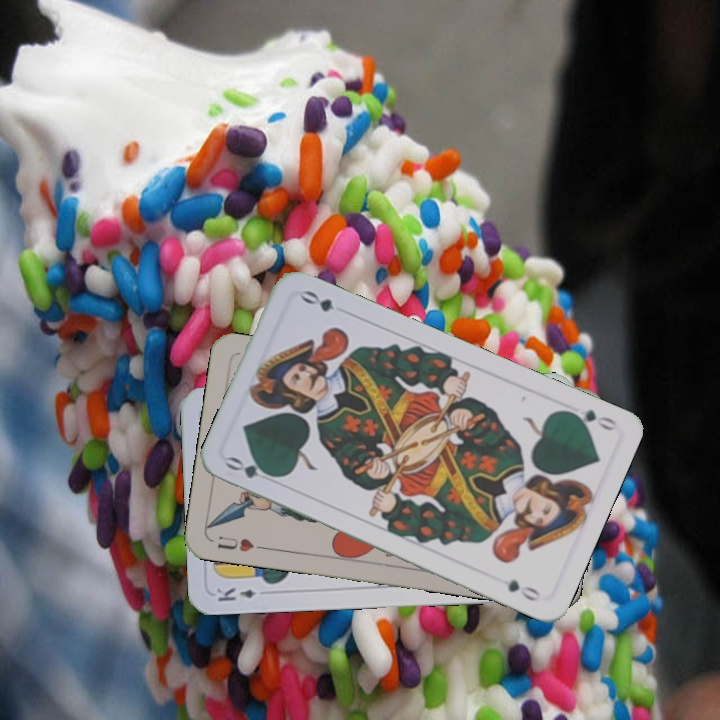EK: (212, 584, 259, 604)
GO: (222, 452, 281, 484), (560, 405, 619, 434)
HU: (213, 532, 268, 555)
